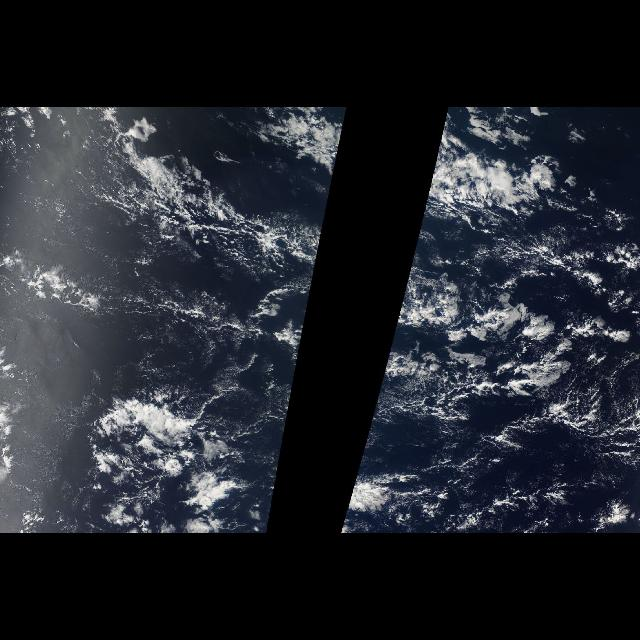Fish: (70, 121, 344, 527), (368, 120, 622, 426)
Sugar: (340, 346, 638, 532), (8, 346, 302, 532)
